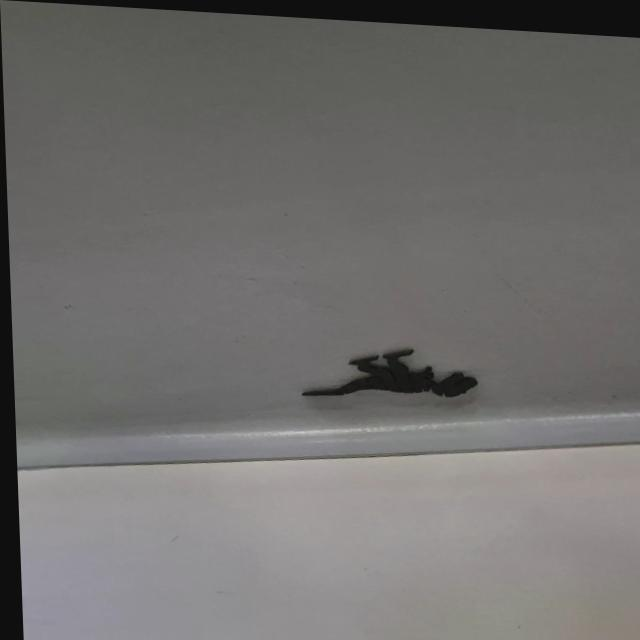dino: (299, 342, 481, 407)
